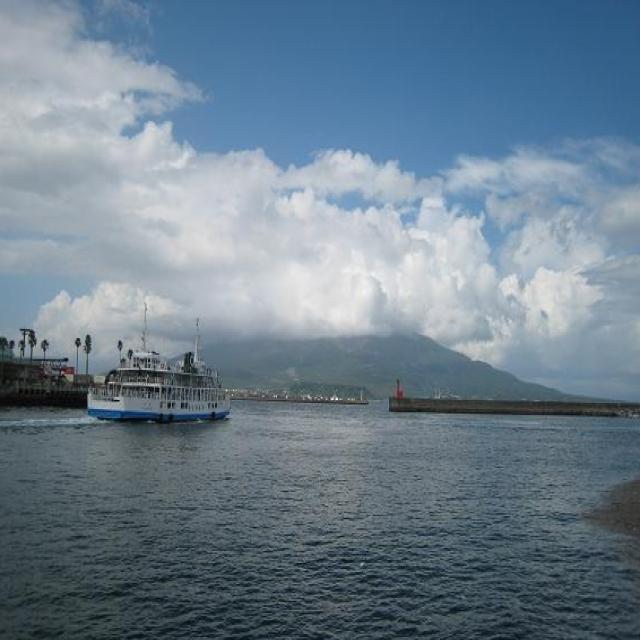passenger ship: (72, 317, 225, 432)
